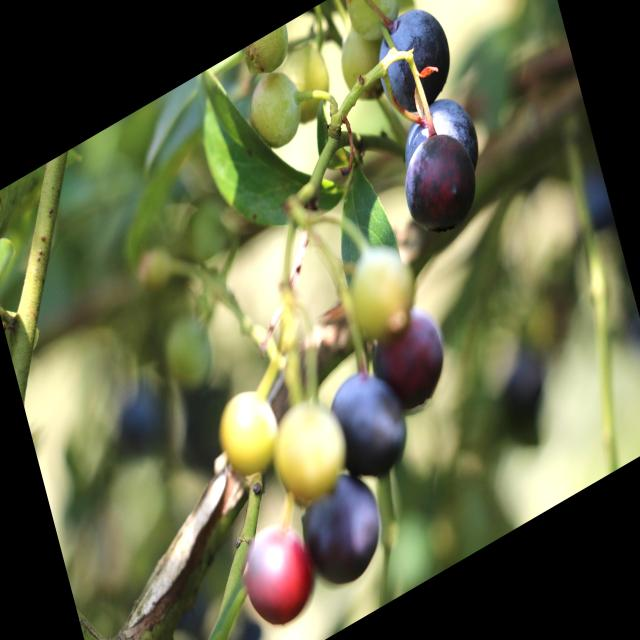blueberry: (287, 454, 396, 608), (320, 346, 421, 506), (388, 72, 493, 214), (359, 0, 464, 132)
blueberry-halfripe: (393, 118, 484, 246), (233, 509, 321, 639), (371, 298, 452, 417)
blueberry-unripe: (264, 382, 353, 510), (339, 227, 425, 351), (213, 374, 289, 485), (242, 62, 310, 158), (280, 34, 340, 134), (331, 10, 388, 110), (235, 22, 299, 88), (337, 0, 408, 56)
